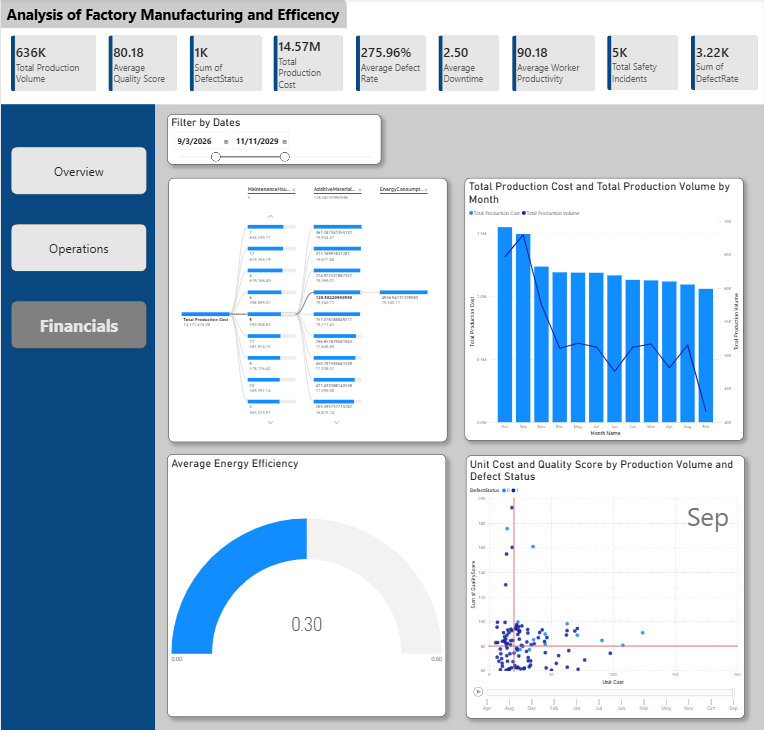

This screenshot's page, from the dashboard's own definition file:
{"tool":"powerbi","page":{"name":"Financials","canvas":[2080,2000],"ordinal":2},"visuals":[{"type":"shape","title":"Factory Manufacturing Defects","box":[0,0,2080,290],"z":0},{"type":"shape","box":[0,290,420,1710],"z":1000},{"type":"cardVisual","fields":{"Data":["_Measure.Total Production Volume"]},"box":[10,83.7,266.7,186.7],"z":2000},{"type":"cardVisual","fields":{"Data":["_Measure.Average Defect Rate"]},"box":[950,83.7,226.7,186.7],"z":3000},{"type":"cardVisual","fields":{"Data":["_Measure.Average Downtime"]},"box":[1176.7,83.7,200,186.7],"z":4000},{"type":"cardVisual","fields":{"Data":["_Measure.Average Quality Score"]},"box":[276.7,83.7,220,186.7],"z":5000},{"type":"cardVisual","fields":{"Data":["_Measure.Average Worker Productivity"]},"box":[1376.7,83.7,260,186.7],"z":6000},{"type":"cardVisual","fields":{"Data":["Sum(Fact_Manufacturing.DefectRate)"]},"box":[1863.3,83.7,216.7,183.3],"z":7000},{"type":"cardVisual","fields":{"Data":["Sum(Fact_Manufacturing.DefectStatus)"]},"box":[496.7,83.7,230,186.7],"z":8000},{"type":"cardVisual","fields":{"Data":["_Measure.Total Production Cost"]},"box":[726.7,83.7,223.3,186.7],"z":9000},{"type":"cardVisual","fields":{"Data":["_Measure.Total Safety Incidents"]},"box":[1636.7,83.7,226.7,183.3],"z":10000},{"type":"decompositionTreeVisual","fields":{"Analyze":["_Measure.Total Production Cost"],"ExplainBy":["Fact_Manufacturing.MaintenanceHours","Fact_Manufacturing.AdditiveMaterialCost","Fact_Manufacturing.EnergyConsumption"]},"box":[456.7,490,760,720],"z":11000},{"type":"lineClusteredColumnComboChart","title":"Total Production Cost and Total Production Volume by Month","fields":{"Category":["DateTable.Month Name"],"Y":["_Measure.Total Production Cost"],"Y2":["_Measure.Total Production Volume"]},"box":[1265,490,760,716],"z":12000},{"type":"gauge","fields":{"Y":["_Measure.Average Energy Efficiency"]},"box":[455,1245,760,716],"z":13000},{"type":"pageNavigator","box":[26.7,406.7,370,550],"z":14000},{"type":"shape","box":[0,0,943.3,83.3],"z":15000},{"type":"slicer","title":"Filter by Dates","fields":{"Values":["DateTable.Date"]},"box":[453.3,316.7,583.3,136.7],"z":16000},{"type":"scatterChart","title":"Unit Cost and Quality Score by Production Volume and Defect Status","fields":{"X":["_Measure.Unit Cost"],"Y":["Sum(Fact_Manufacturing.QualityScore)"],"Category":["Fact_Manufacturing.ProductionVolume"],"Series":["Fact_Manufacturing.DefectStatus"],"Play":["DateTable.Month Name"]},"box":[1266.7,1246.7,760,716.7],"z":17000}]}

Visuals, with their boxes in screenshot pixels (x1, y1, x2, y2), scaled from the page's 2080x2000 canvas onto the 764x730 screenshot:
"Factory Manufacturing Defects" shape: (0, 0, 763, 106)
shape: (0, 106, 154, 729)
cardVisual - _Measure.Total Production Volume: (4, 31, 102, 99)
cardVisual - _Measure.Average Defect Rate: (349, 31, 432, 99)
cardVisual - _Measure.Average Downtime: (432, 31, 506, 99)
cardVisual - _Measure.Average Quality Score: (102, 31, 182, 99)
cardVisual - _Measure.Average Worker Productivity: (506, 31, 601, 99)
cardVisual - Sum(Fact_Manufacturing.DefectRate): (684, 31, 763, 97)
cardVisual - Sum(Fact_Manufacturing.DefectStatus): (182, 31, 267, 99)
cardVisual - _Measure.Total Production Cost: (267, 31, 349, 99)
cardVisual - _Measure.Total Safety Incidents: (601, 31, 684, 97)
decompositionTreeVisual - _Measure.Total Production Cost x Fact_Manufacturing.MaintenanceHours: (168, 179, 447, 442)
"Total Production Cost and Total Production Volume by Month" lineClusteredColumnComboChart: (465, 179, 744, 440)
gauge - _Measure.Average Energy Efficiency: (167, 454, 446, 716)
pageNavigator: (10, 148, 146, 349)
shape: (0, 0, 346, 30)
"Filter by Dates" slicer: (167, 116, 381, 165)
"Unit Cost and Quality Score by Production Volume and Defect Status" scatterChart: (465, 455, 744, 717)
